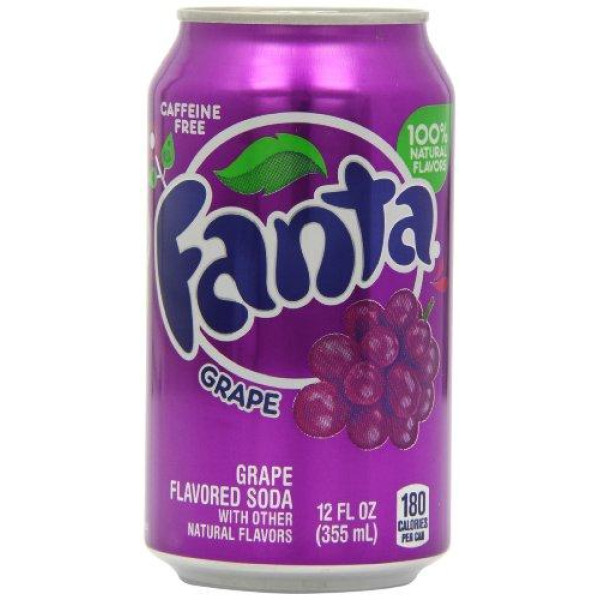Can: (133, 10, 457, 591)
